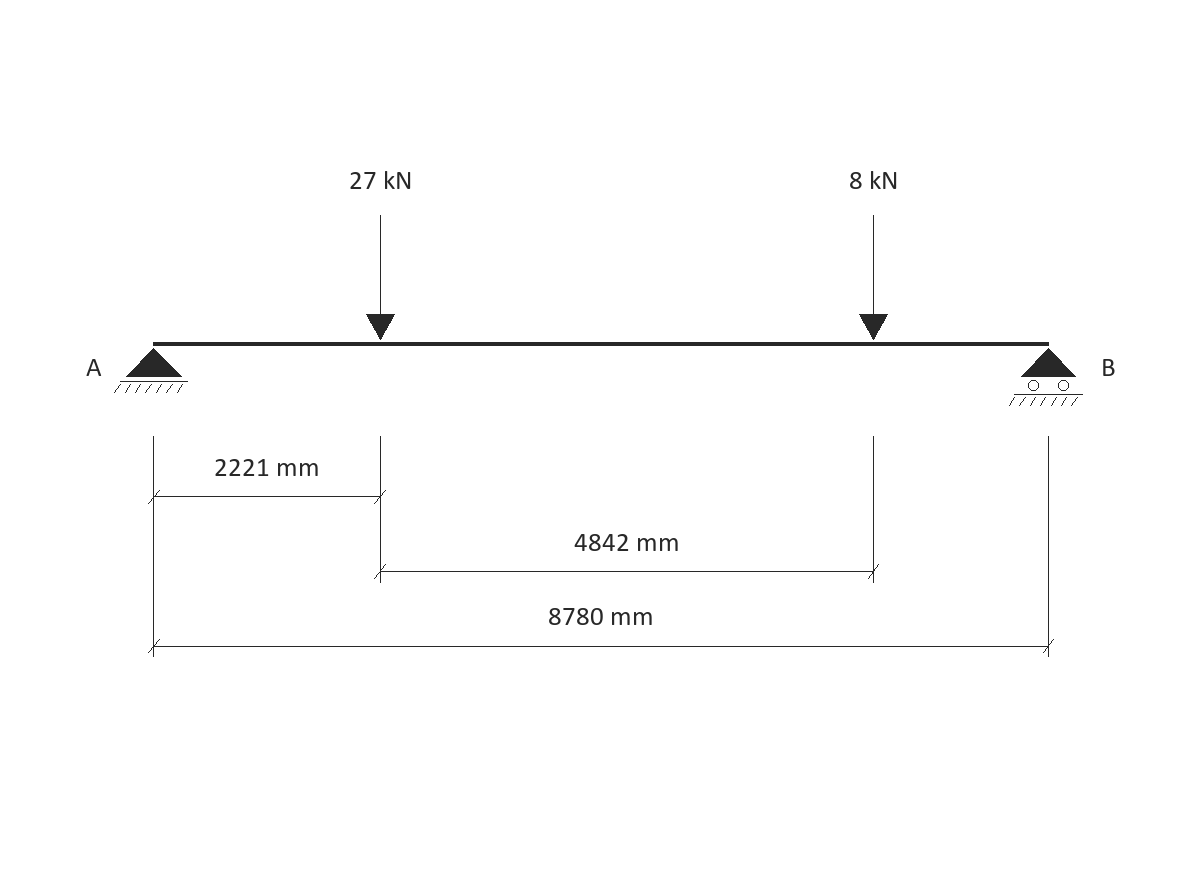pin_support: (114, 348, 188, 393)
point_load: (366, 215, 395, 340), (859, 215, 888, 340)
roller_support: (1009, 348, 1083, 406)
